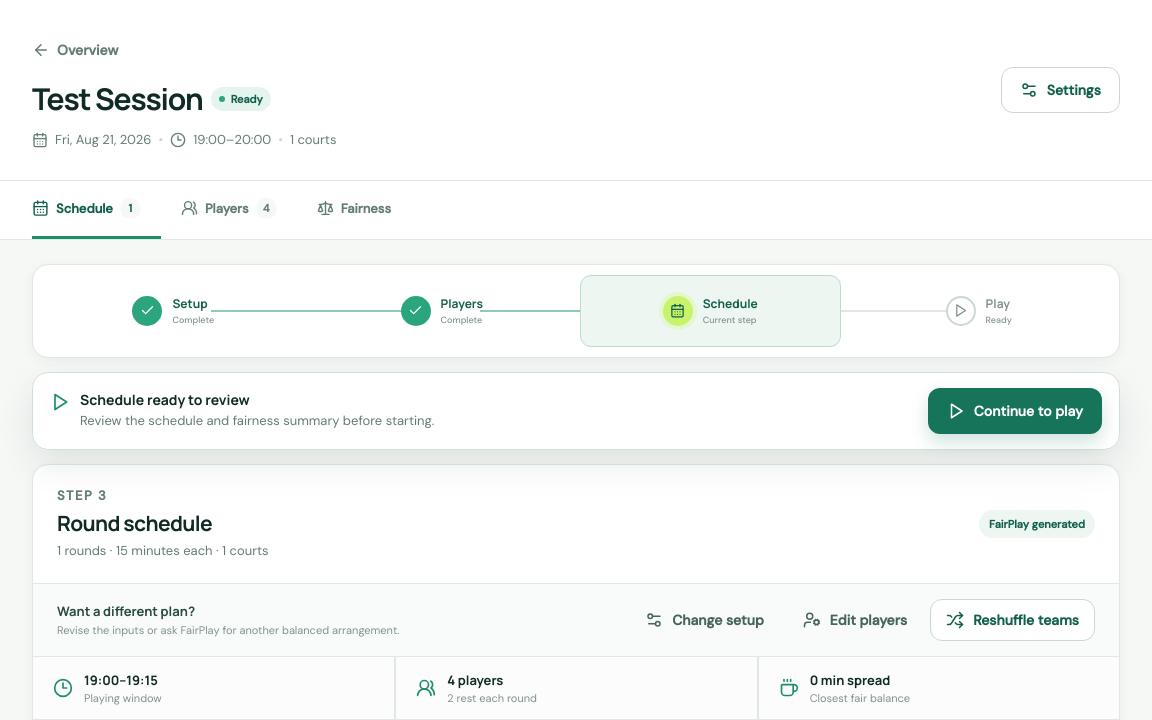
Test: SessionPage lifecycle › confirms and replaces a generated schedule with a different arrangement
The width and height of the screenshot is (1152, 720).
Click the button "Reshuffle teams": (1013,620) [930,599,1095,641]
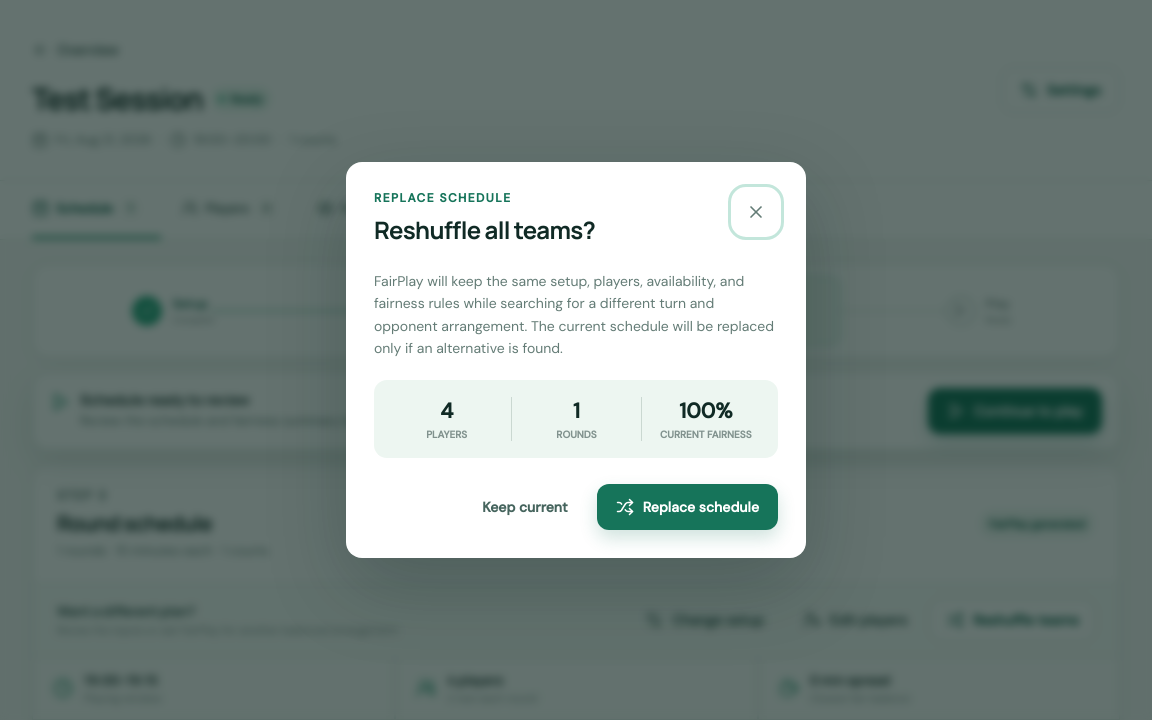
Check: the dialog "Reshuffle all teams" is shown, box [346,162,806,558]
Click the button "Keep current": (525,507) [463,484,587,530]
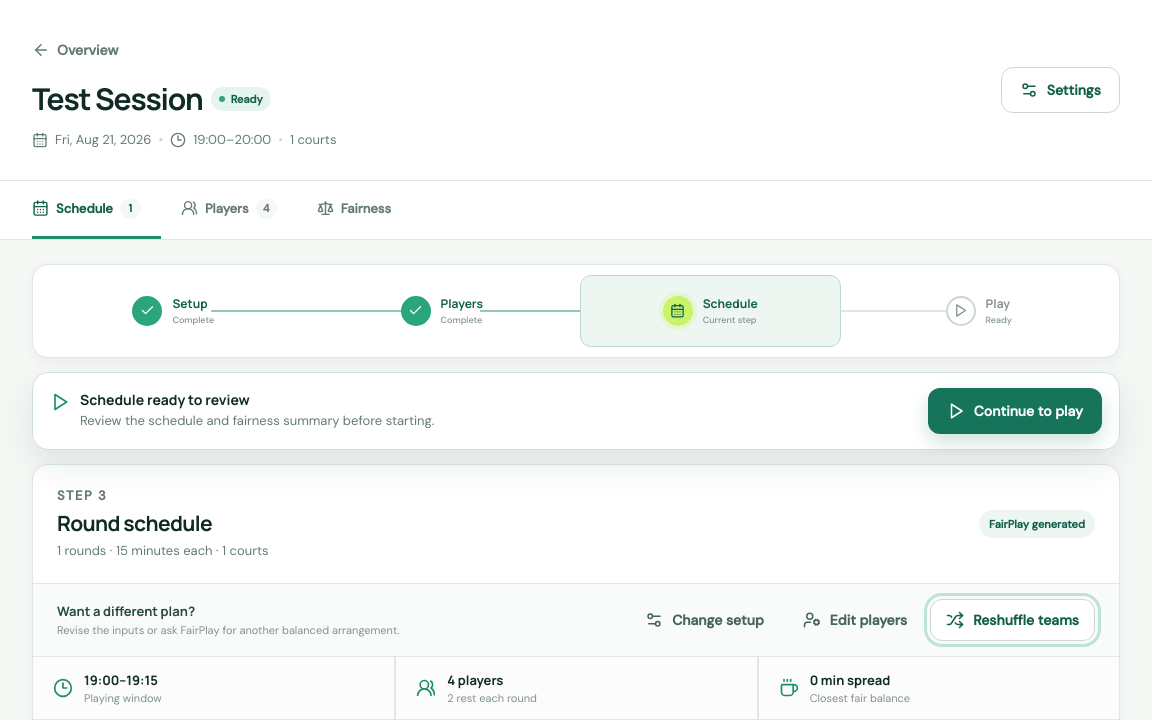
Check: the heading "Reshuffle all teams" is gone
Click the button "Reshuffle teams": (1013,620) [930,599,1095,641]
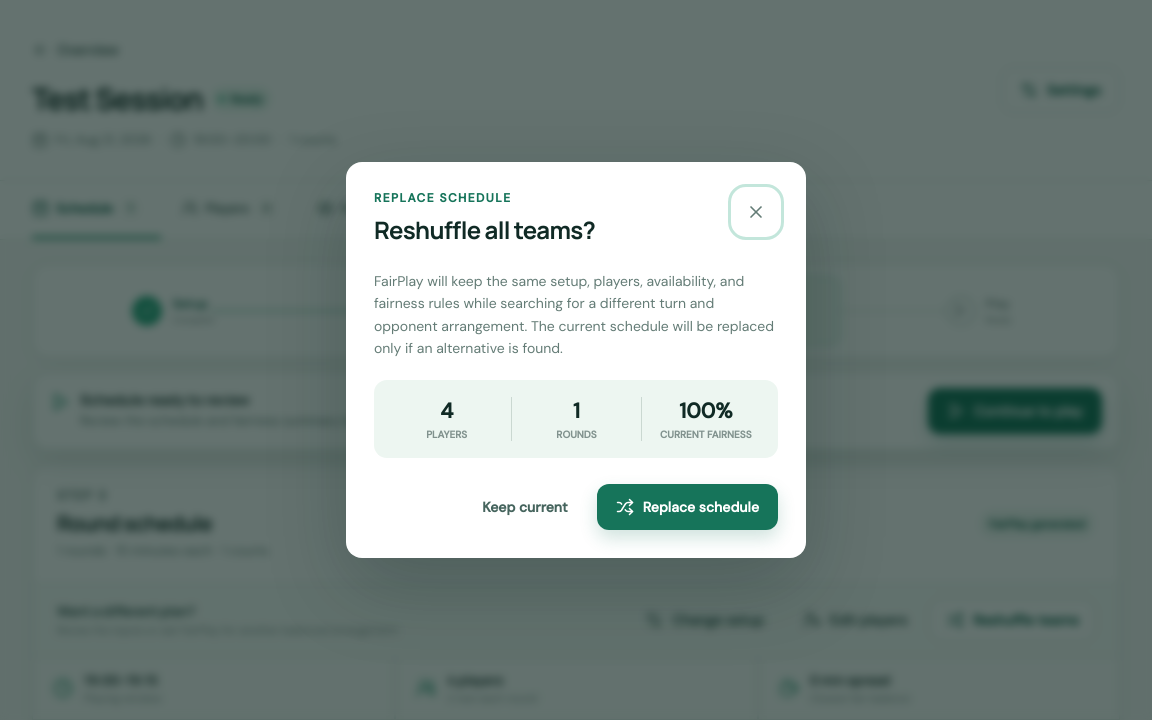
Click the button "Replace schedule": (687,507) [597,484,778,530]
(page scrolled)
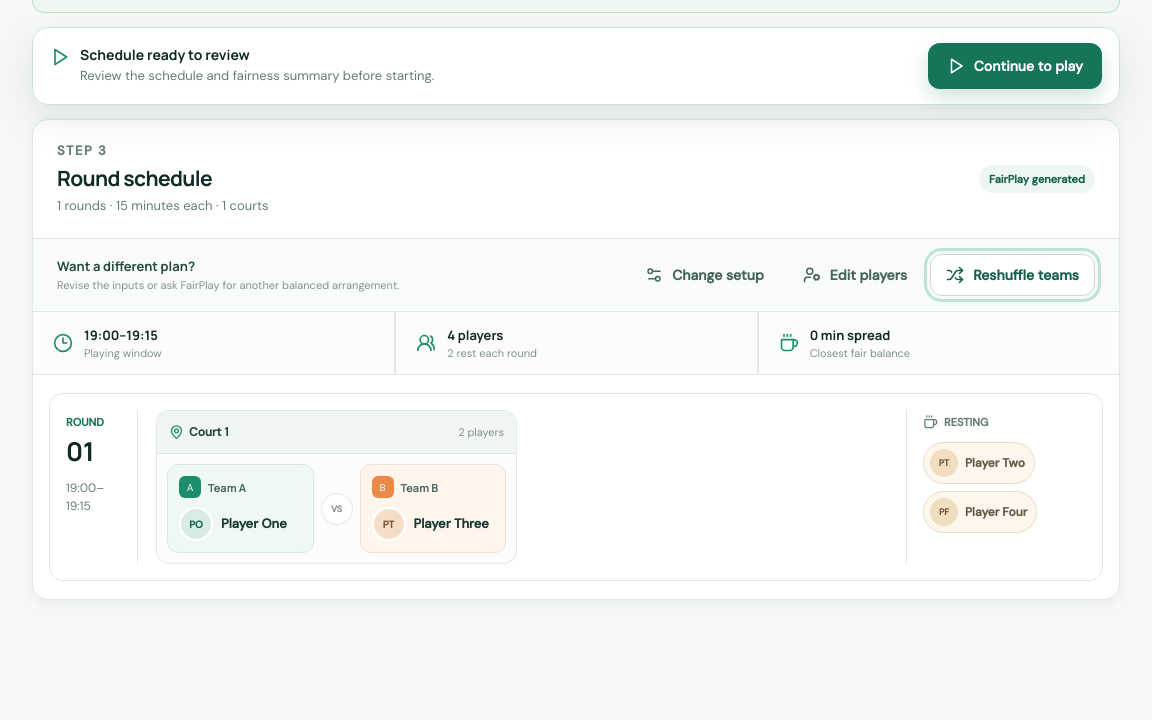
Check: the text "Player Three" is shown, box [414,516,489,533]
